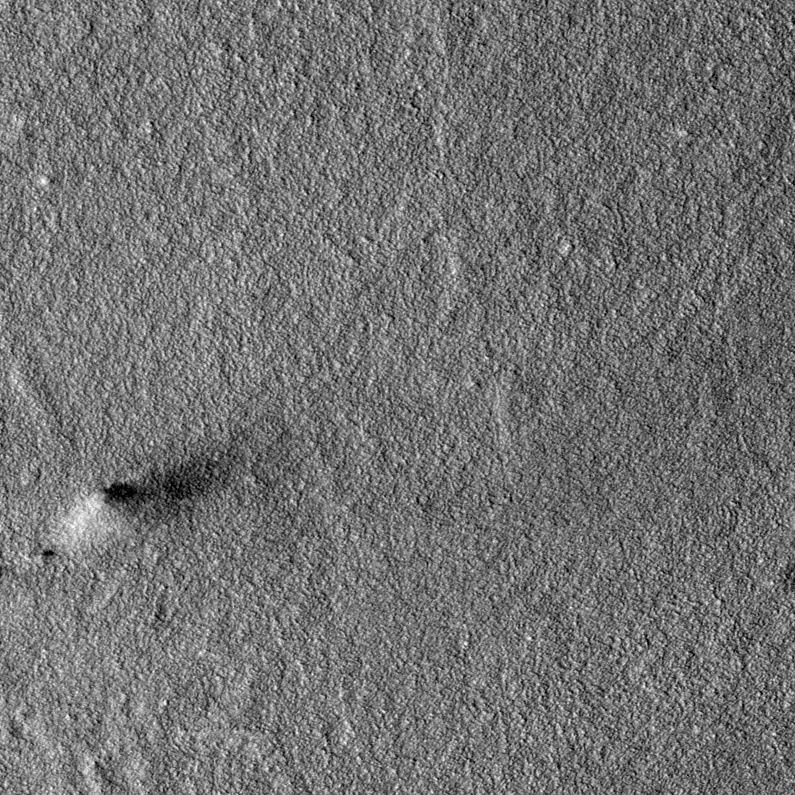dust_devil: (52, 435, 259, 560)
